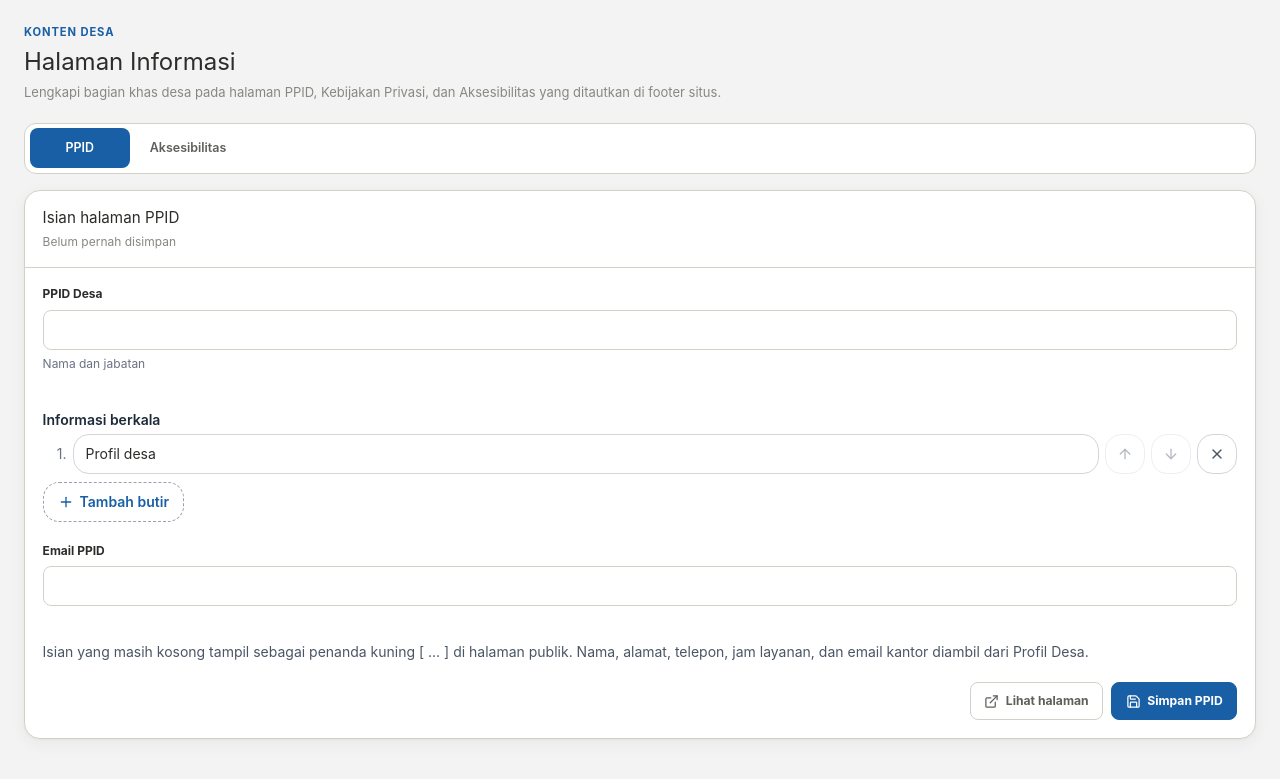
Test: KelolaHalamanInfoPage › adds, edits and removes list items, then saves the page
In the field labelled "PPID Desa": (640, 330) left=43, top=310, right=1237, bottom=350, type "Nama, Sekretaris Desa"
Click the button "Tambah butir": (113, 502) left=43, top=482, right=184, bottom=522
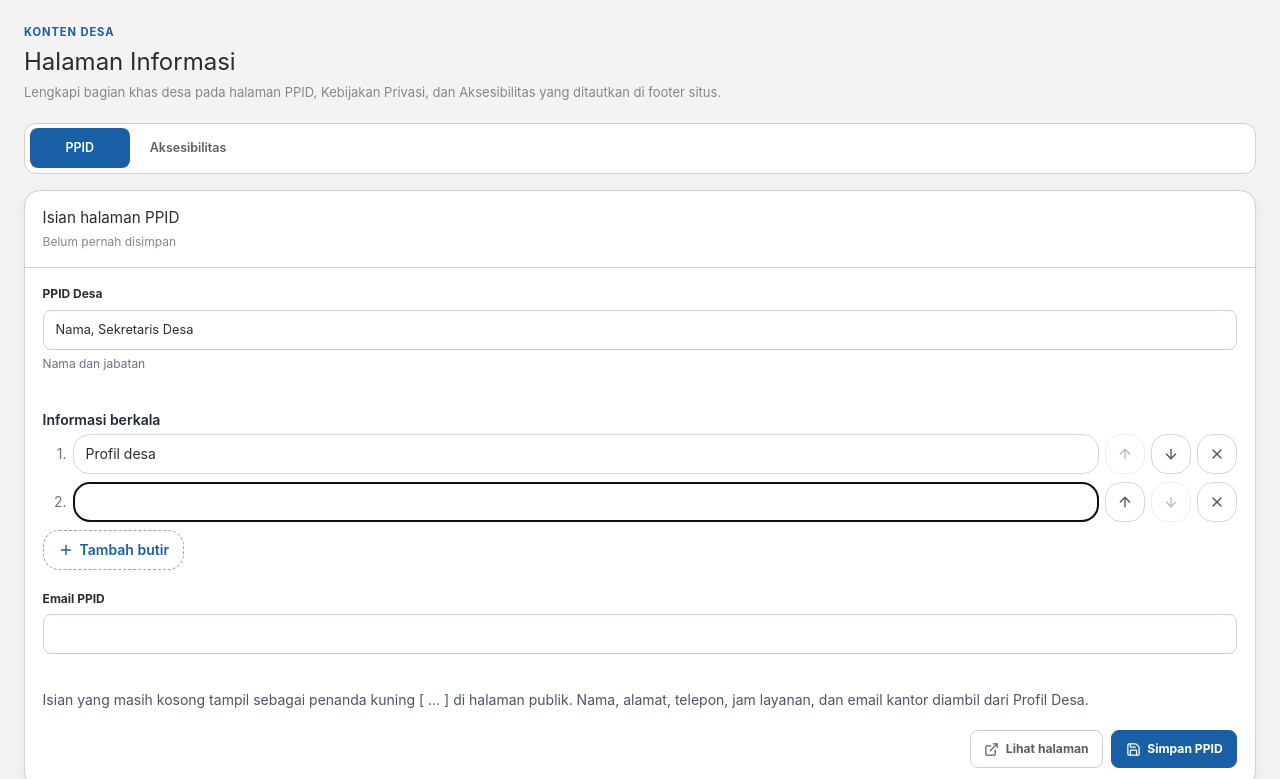
In the field named "Informasi berkala, butir 2": (586, 502) left=73, top=482, right=1099, bottom=522, type "APBDes"
Click the button "Tambah butir": (113, 550) left=43, top=530, right=184, bottom=570
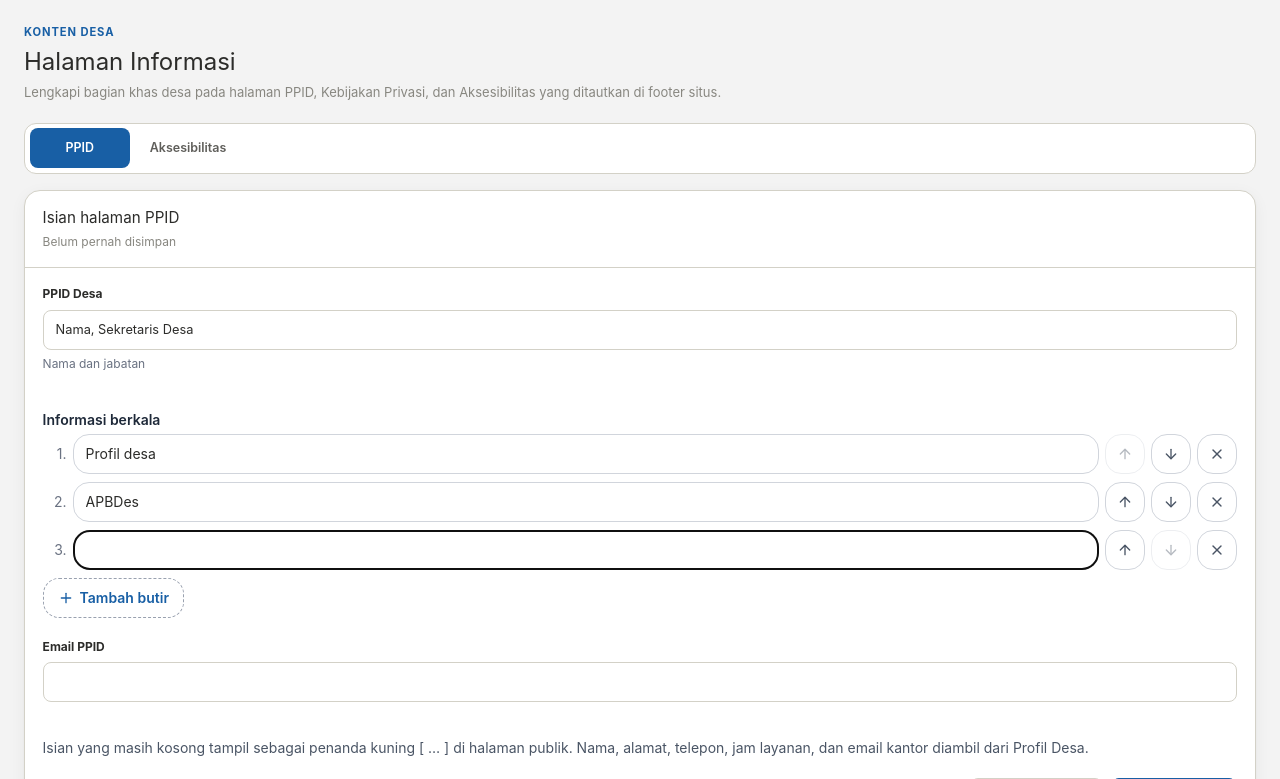
In the field named "Informasi berkala, butir 3": (586, 550) left=73, top=530, right=1099, bottom=570, type "Peraturan desa"
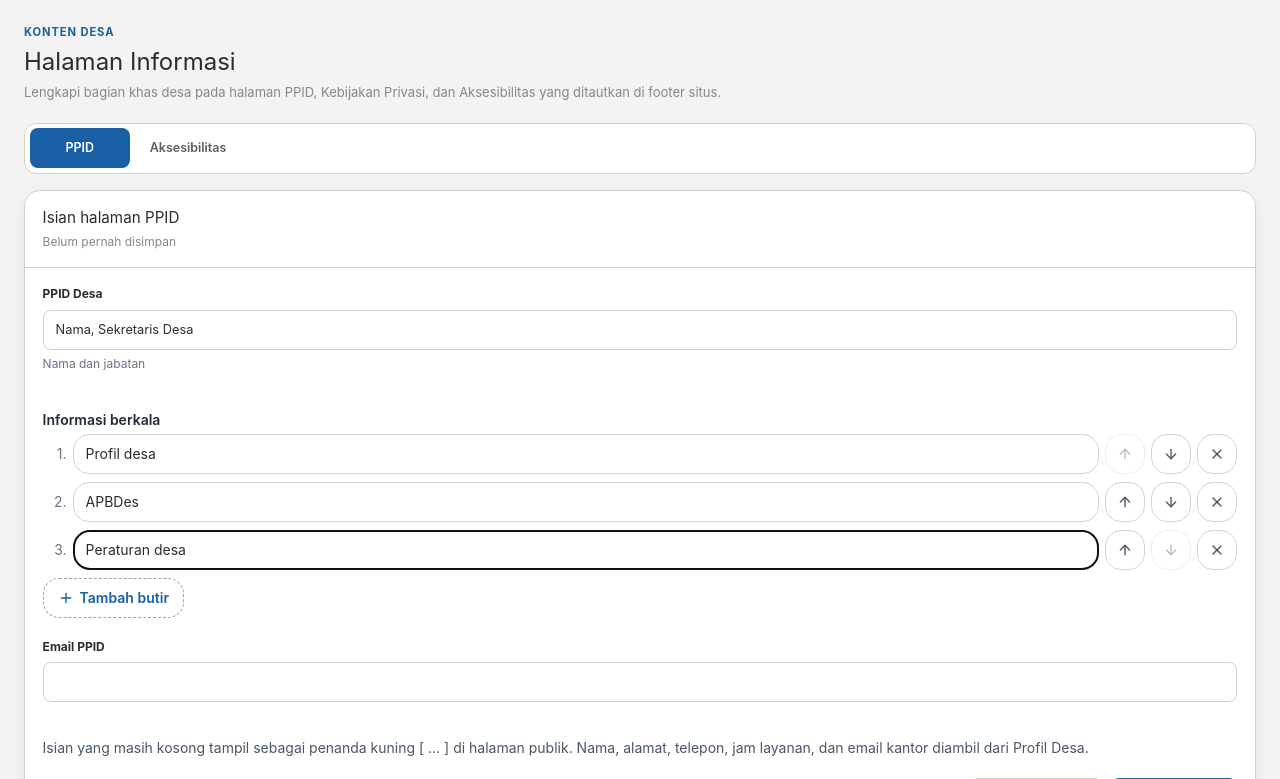
Click the button named "Naikkan butir 3": (1125, 550) left=1105, top=530, right=1145, bottom=570
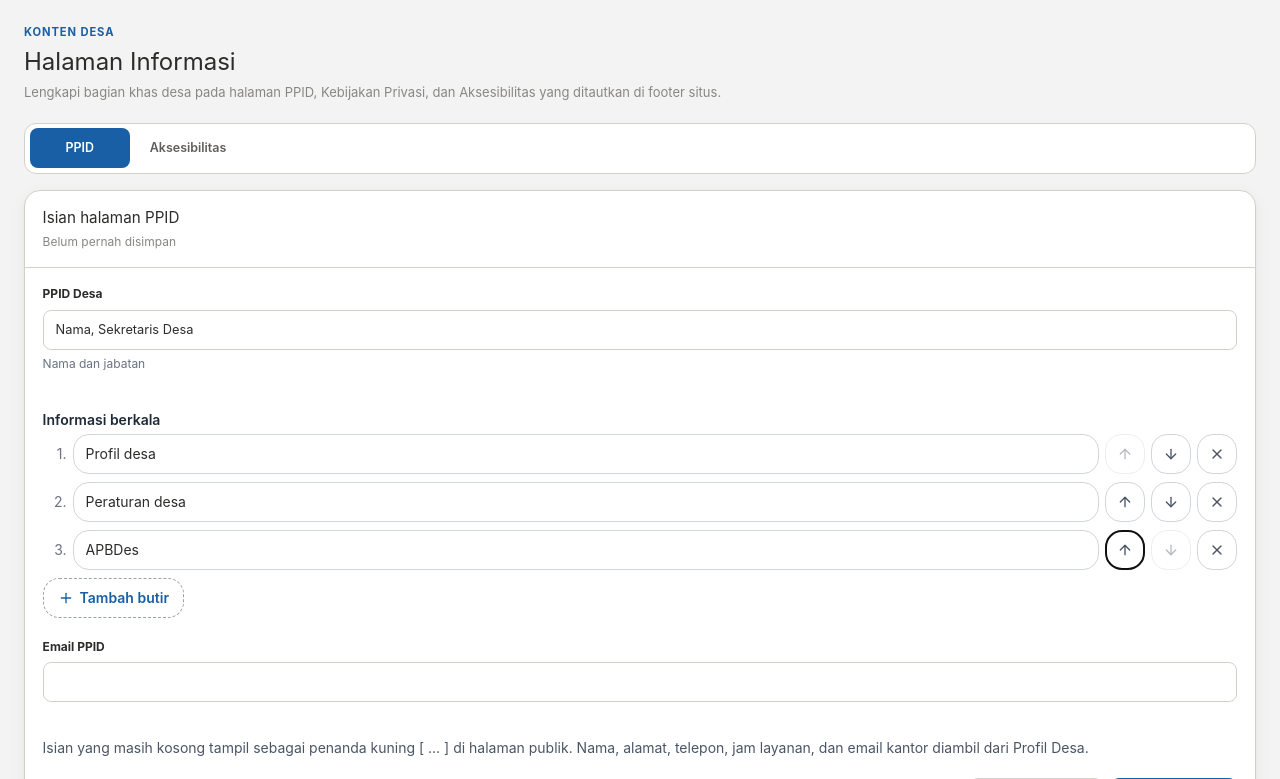
Click the button named "Hapus butir 1": (1217, 454) left=1197, top=434, right=1237, bottom=474
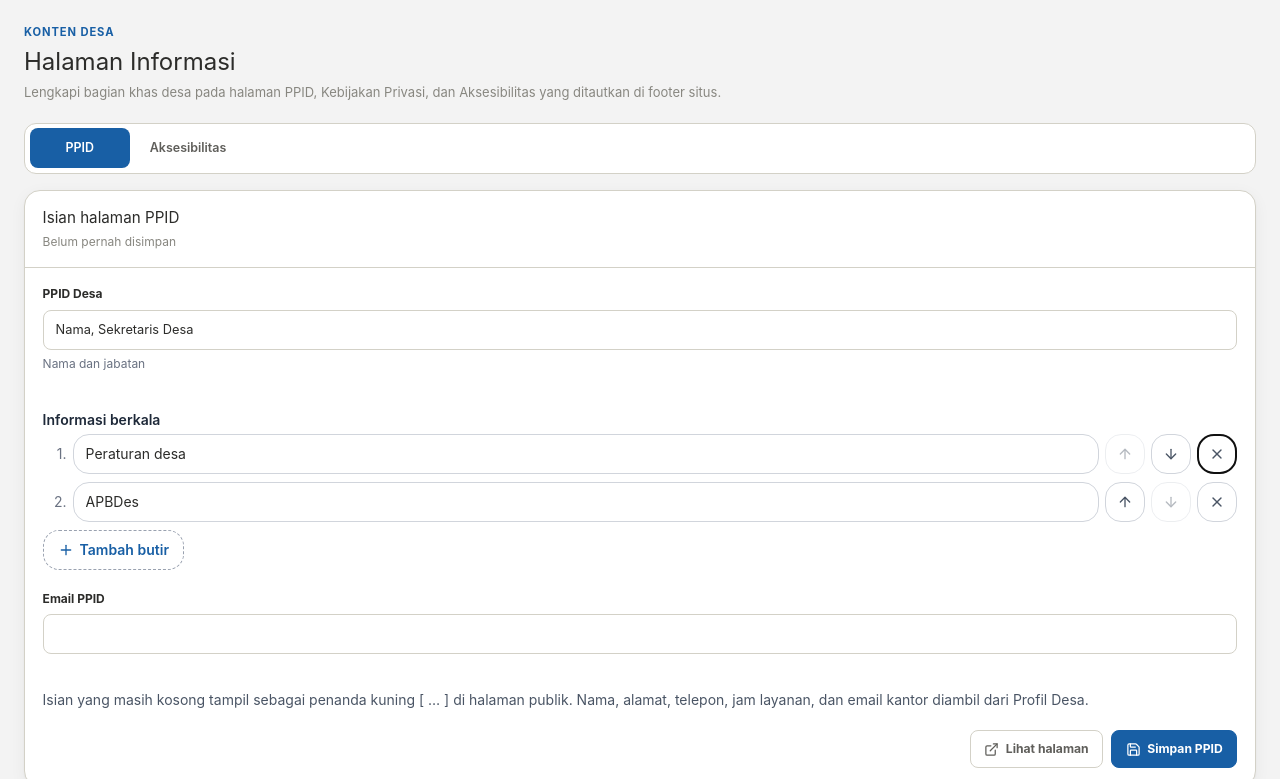
Click the button "Simpan PPID": (1174, 749) left=1111, top=730, right=1237, bottom=768
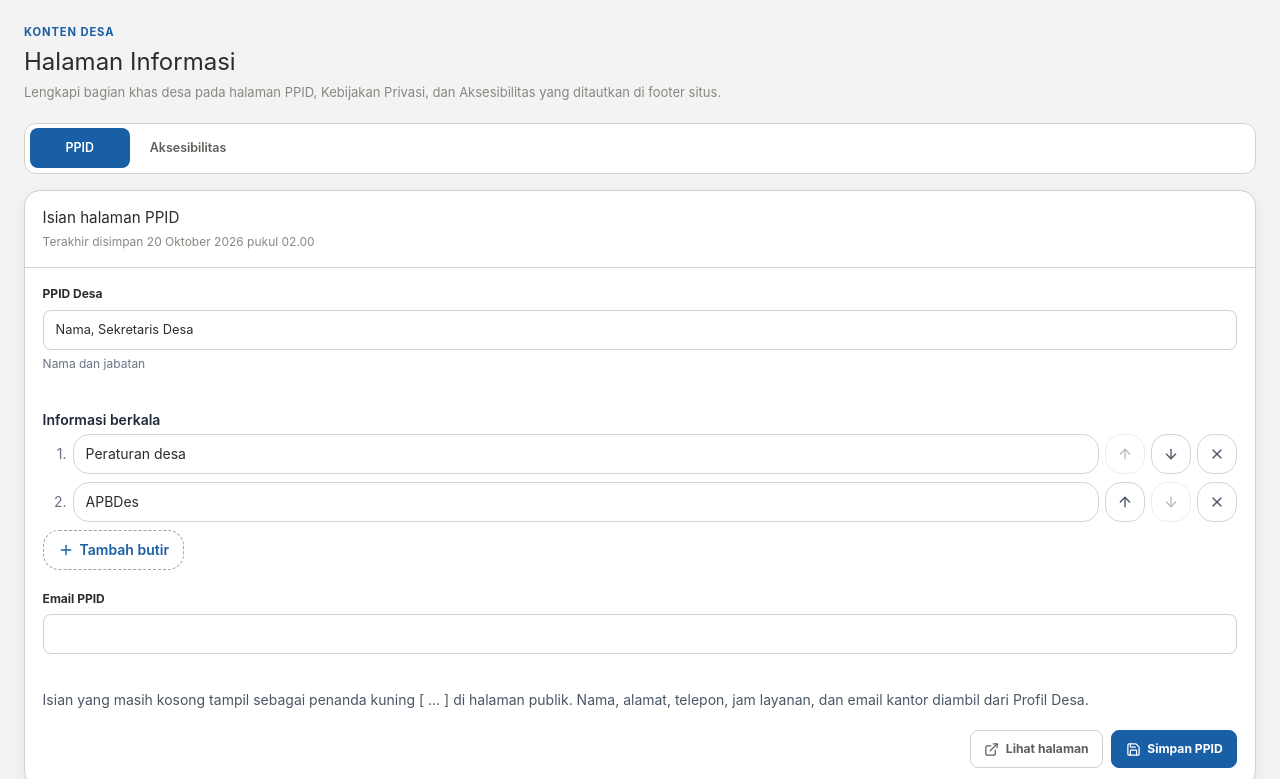
Expected: the text "Terakhir disimpan" is shown, left=43, top=234, right=315, bottom=249
